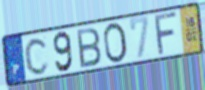7: (127, 14, 153, 62)
9: (52, 31, 74, 74)
B: (75, 26, 103, 70)
C: (23, 36, 51, 77)
F: (154, 9, 179, 58)
O: (102, 21, 129, 66)
